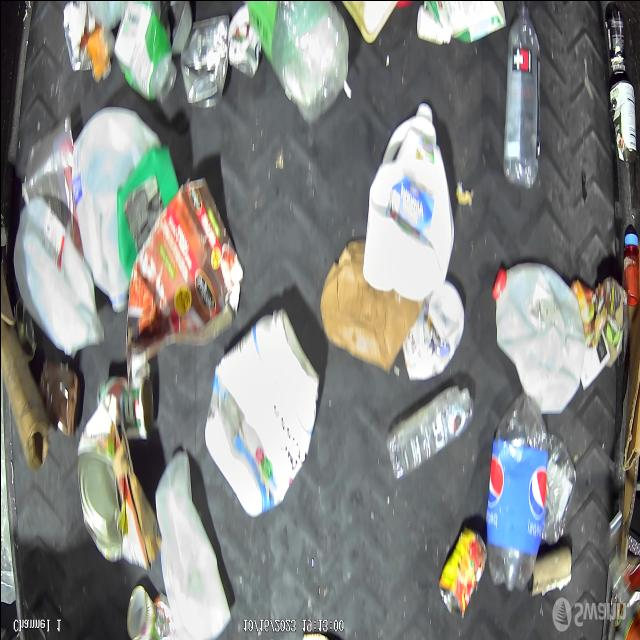can: (178, 14, 230, 112), (436, 521, 486, 622), (98, 372, 156, 442), (228, 0, 262, 82), (608, 76, 638, 165), (602, 2, 626, 78)
milk_jug: (72, 102, 170, 316), (360, 101, 456, 299), (11, 197, 108, 361), (152, 448, 232, 640), (491, 258, 587, 414)
plastic_bottle: (484, 388, 550, 595), (384, 378, 475, 481), (500, 0, 541, 192)
